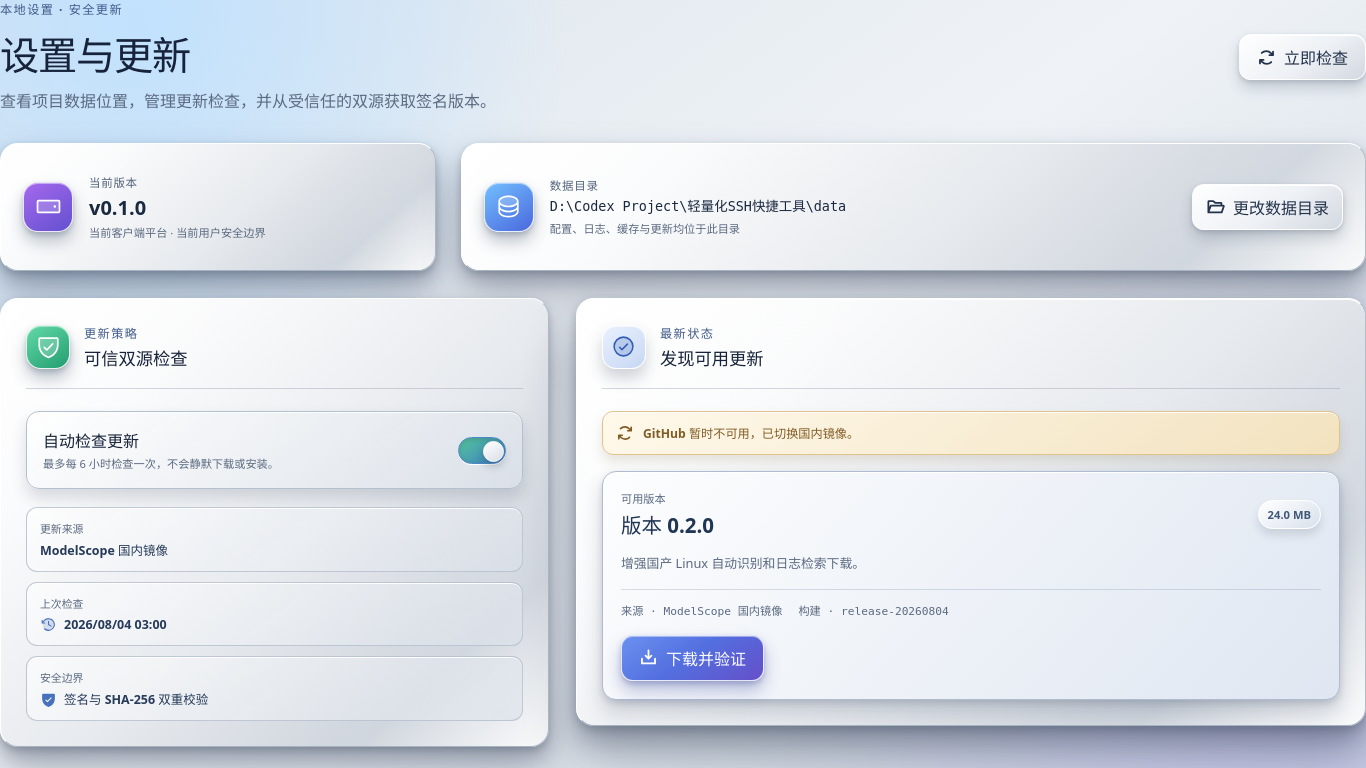
Scenario: SettingsPage › shows mirror fallback and monotonic download progress
The image size is (1366, 768).
Expected: the text "GitHub 暂时不可用，已切换国内镜像。" is shown, [643,424,859,442]
Click the button "下载并验证": (692, 658) [621,635,764,681]
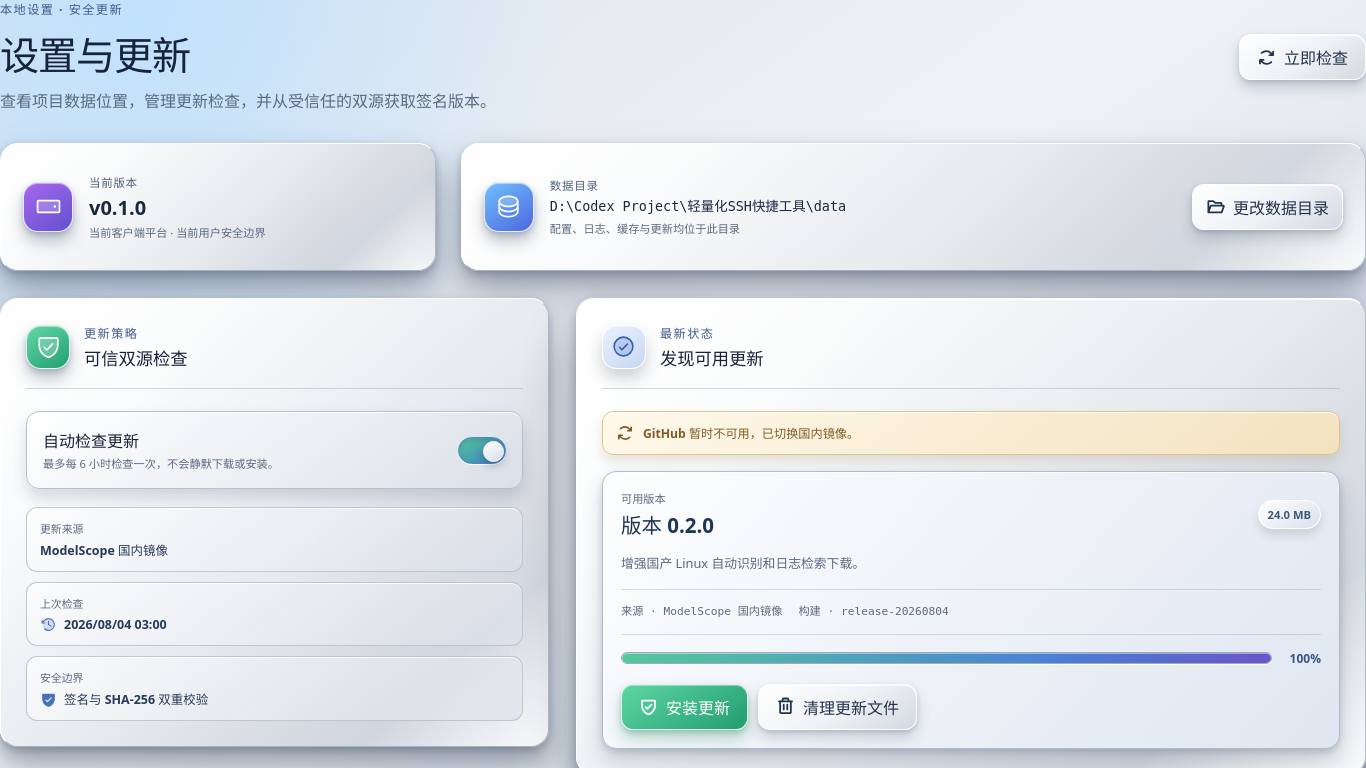
Now the text "100%" is shown, box [1290,650,1321,667]
Now the button "安装更新" is shown, box [621,684,748,730]
